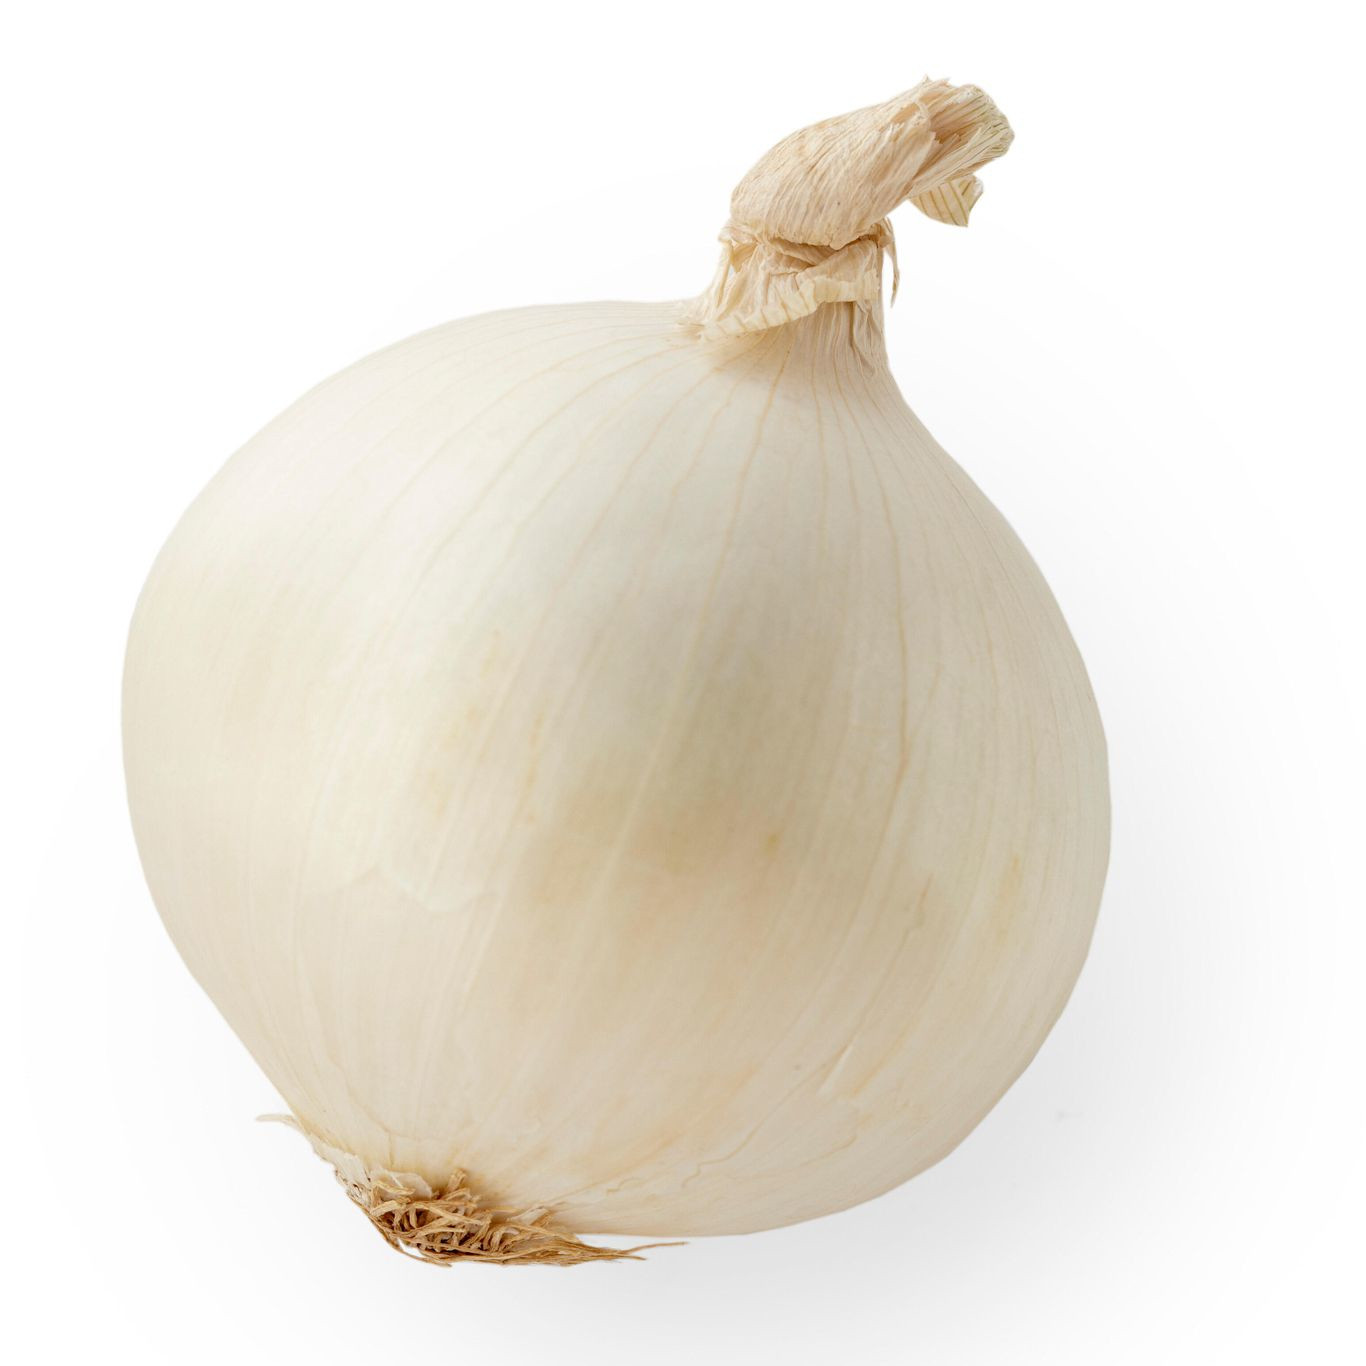onion: (108, 70, 1128, 1273)
